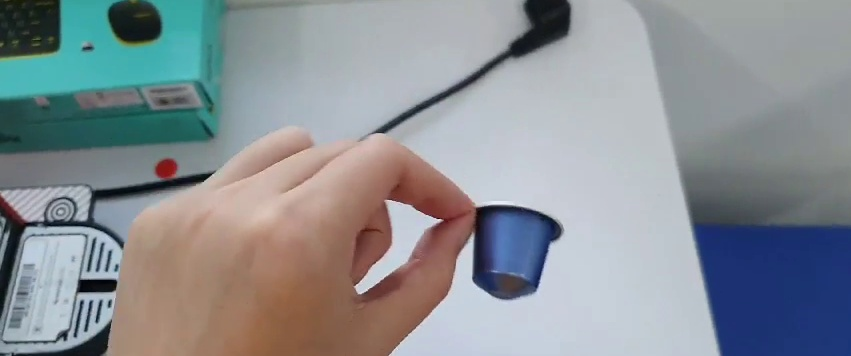capsule_7: (467, 202, 567, 304)
